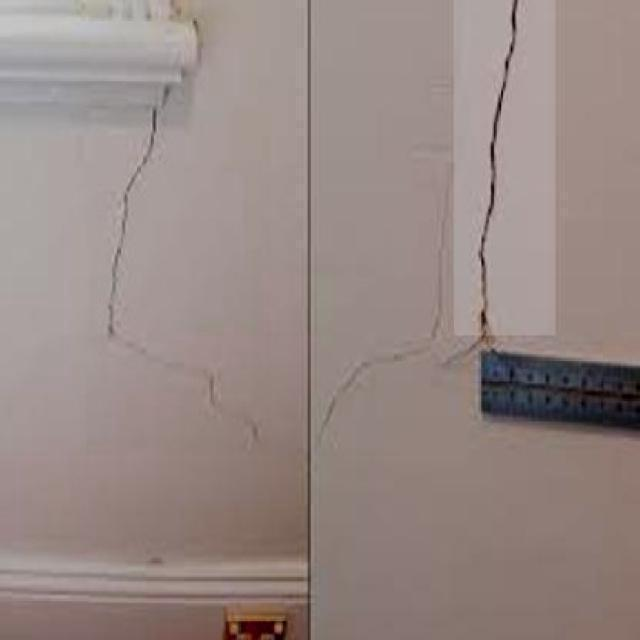crack: (456, 0, 564, 340), (102, 106, 198, 384)
